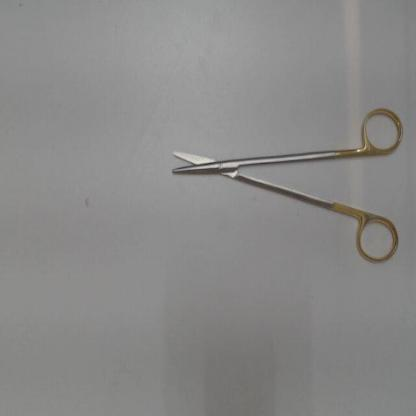7 Metzenbaum Scissors: (171, 106, 404, 266)
